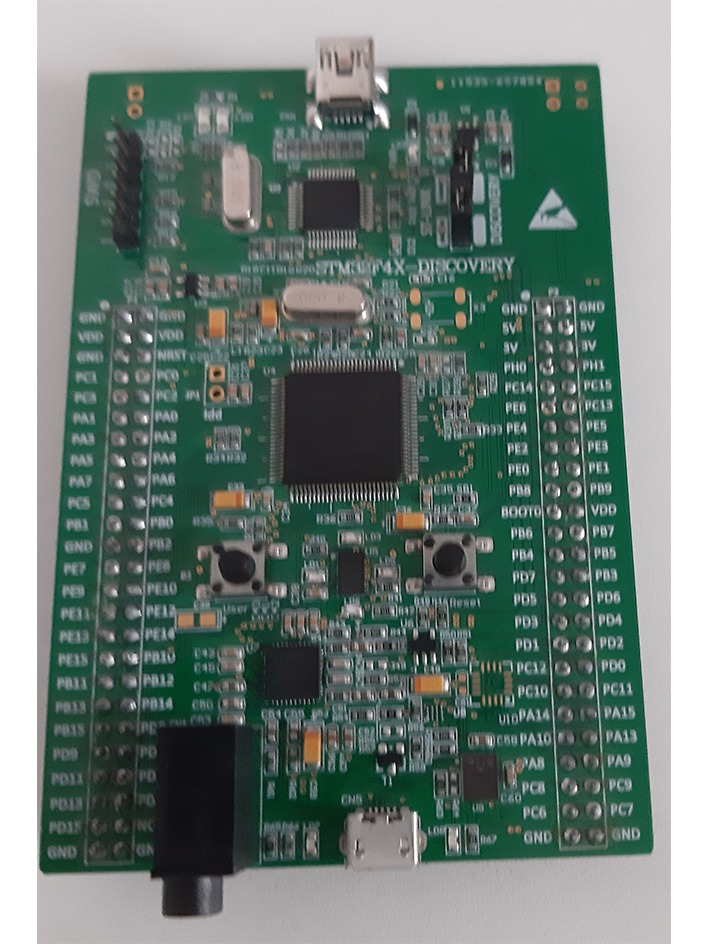STM32F4-DISC: (40, 30, 666, 920)
